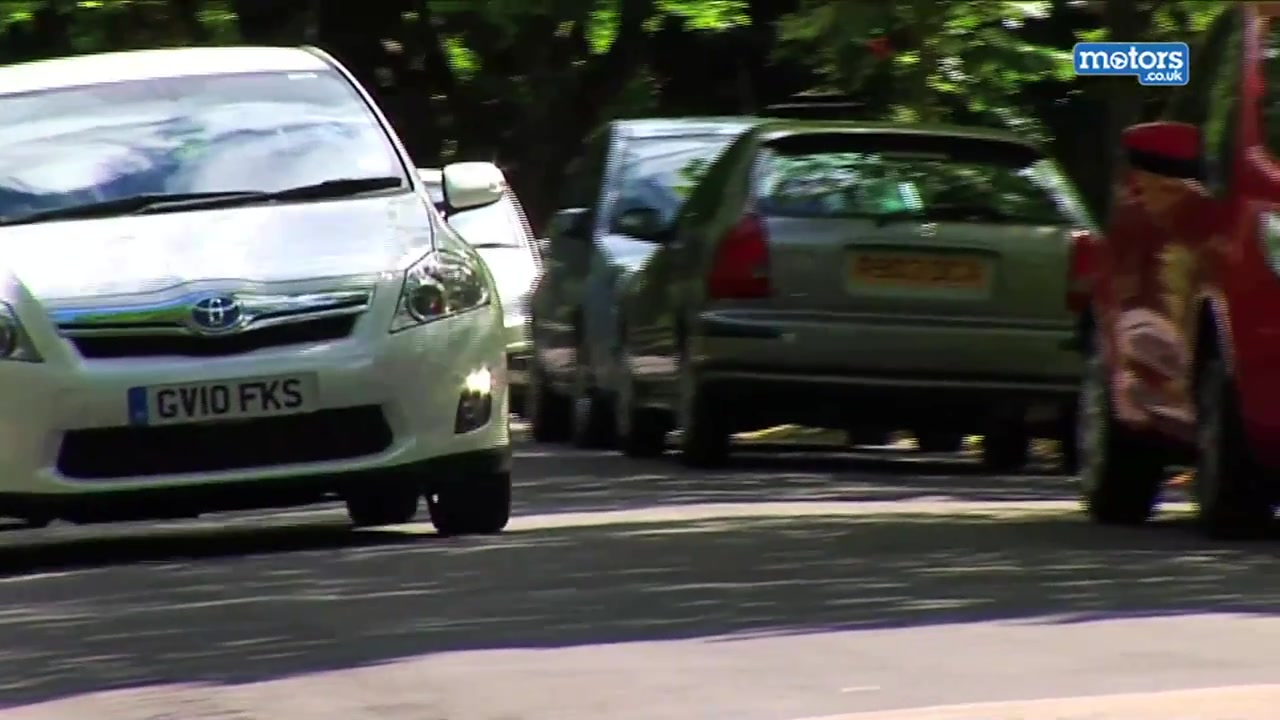car: (4, 36, 515, 547), (621, 109, 1110, 453), (1067, 1, 1280, 540), (528, 111, 771, 452), (414, 163, 547, 425)
